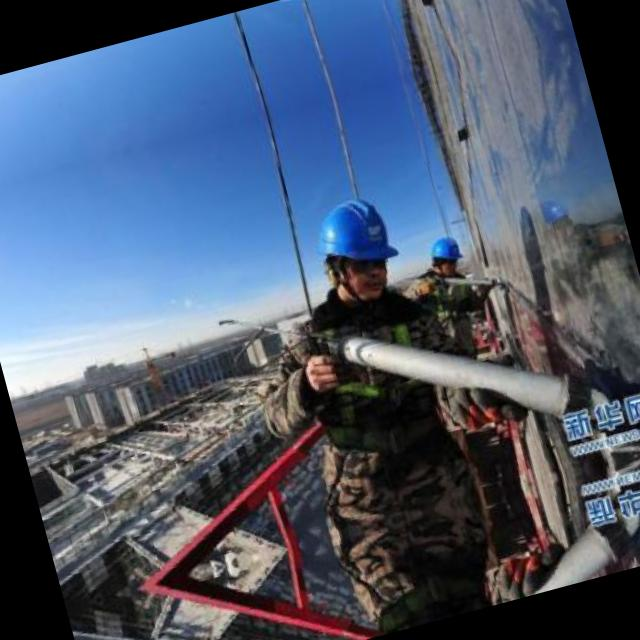helmet: (308, 181, 414, 316), (419, 224, 466, 277)
